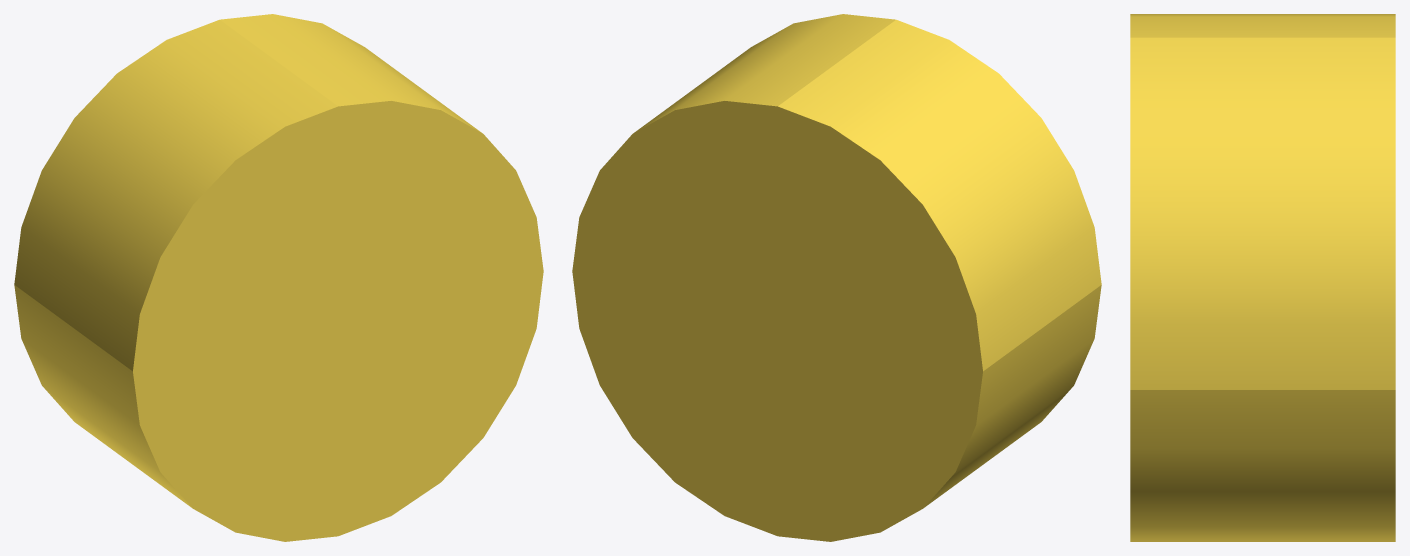
File: coin.glb
3 views of the same model, side by side, from view 1: azimuth 30°, elevation 25°; view 2: azimuth 150°, elevation 25°; view 3: azimuth 270°, elevation 25° (orthographic). The views are drawn at different scales.
Parts seen in each view (by area): view 1: shape2 (×4); view 2: shape2 (×4); view 3: shape2 (×3).
Part boxes in pixels (x1=…): shape2 (×4): x1=14, y1=14, x2=543, y2=541; shape2 (×4): x1=572, y1=14, x2=1101, y2=541; shape2 (×3): x1=1130, y1=14, x2=1395, y2=541.
Size of the model in its own units: 2 by 2 by 1.
8 materials, 8 textured.
